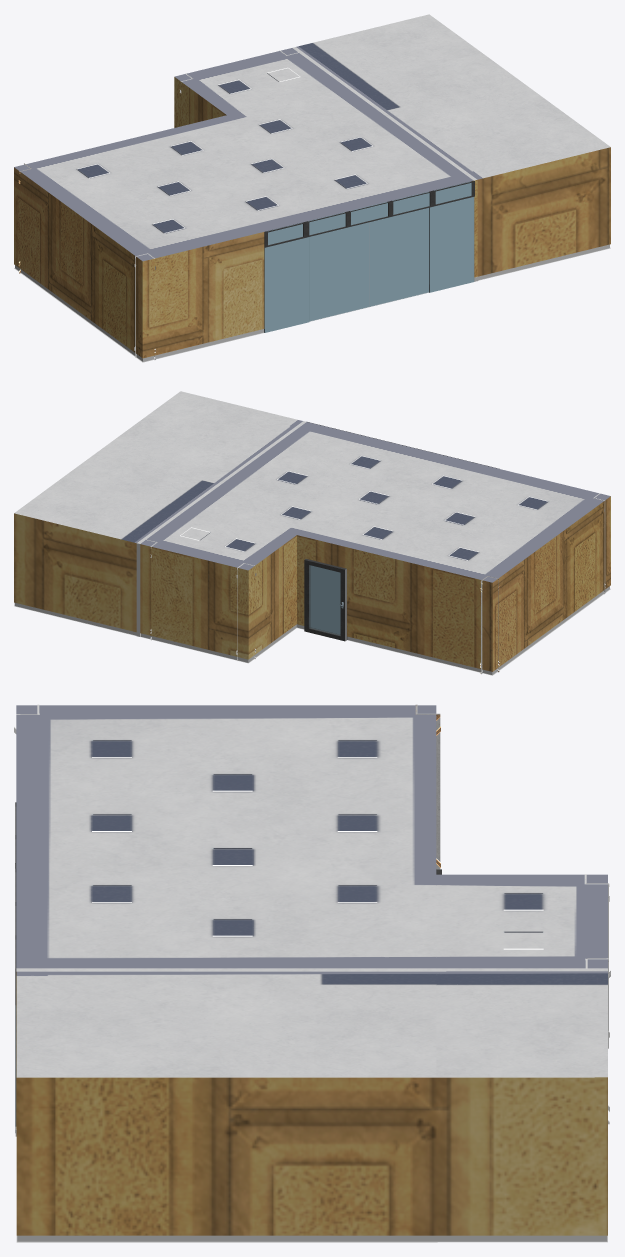
File: CIS_MODELO_2023.fbx
The picture shows the model from 3 angles, top to bottom: view 1: azimuth 30°, elevation 25°; view 2: azimuth 150°, elevation 25°; view 3: azimuth 270°, elevation 25°; orthographic projection. The views are drawn at different scales.
Parts seen in each view (by area): view 1: Techo, EstructuraP, PuertaP, Piso; view 2: Techo, EstructuraP, PuertaDentro.002, Piso; view 3: Techo, EstructuraP, DetalleColumna1.001.
Part boxes in pixels (<box>): Techo: <box>14,14,610,261</box>; EstructuraP: <box>14,77,610,362</box>; PuertaP: <box>264,181,474,332</box>; Piso: <box>14,247,610,362</box>; Techo: <box>14,391,610,582</box>; EstructuraP: <box>14,496,610,675</box>; PuertaDentro.002: <box>304,559,347,641</box>; Piso: <box>14,588,610,675</box>; Techo: <box>16,705,607,1077</box>; EstructuraP: <box>15,972,607,1242</box>; DetalleColumna1.001: <box>415,704,440,869</box>.
Bounding box in the file's own units: 1264 × 262 × 853.
